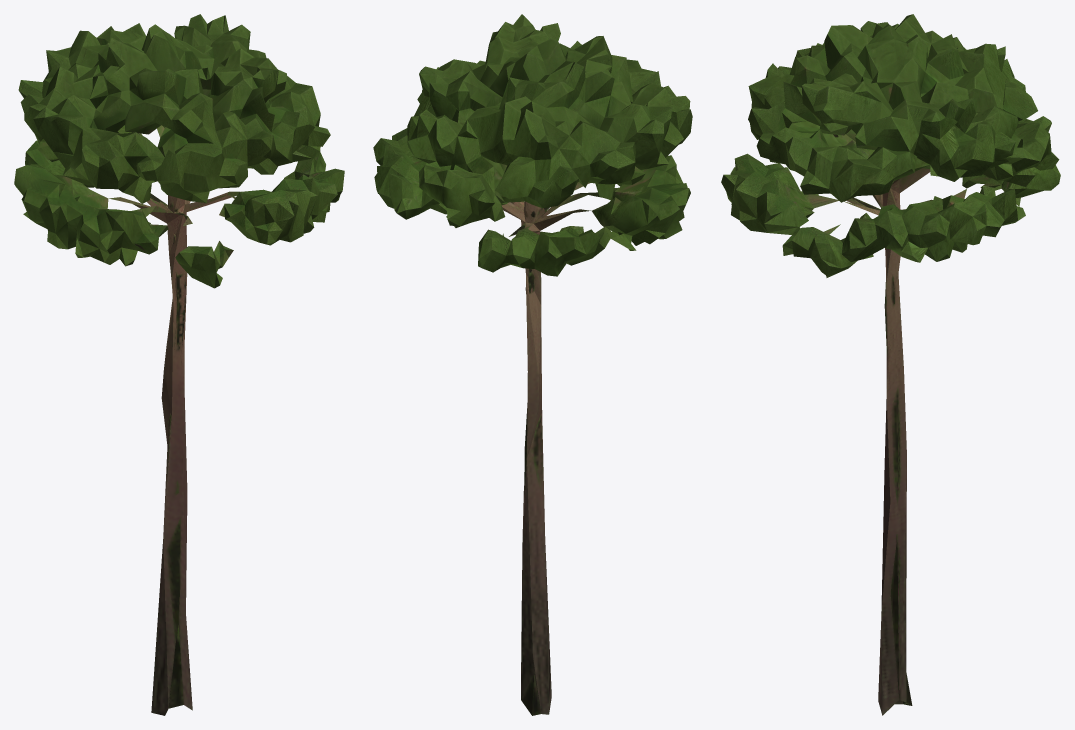
Rendered from tree_pine.glb.
The picture shows the model from 3 angles, left to right: view 1: azimuth 30°, elevation 25°; view 2: azimuth 150°, elevation 25°; view 3: azimuth 270°, elevation 25°; orthographic projection. The views are drawn at different scales.
Bounding box in the file's own units: 0.8467 × 1.89 × 0.8565.
1 material, 1 textured.
